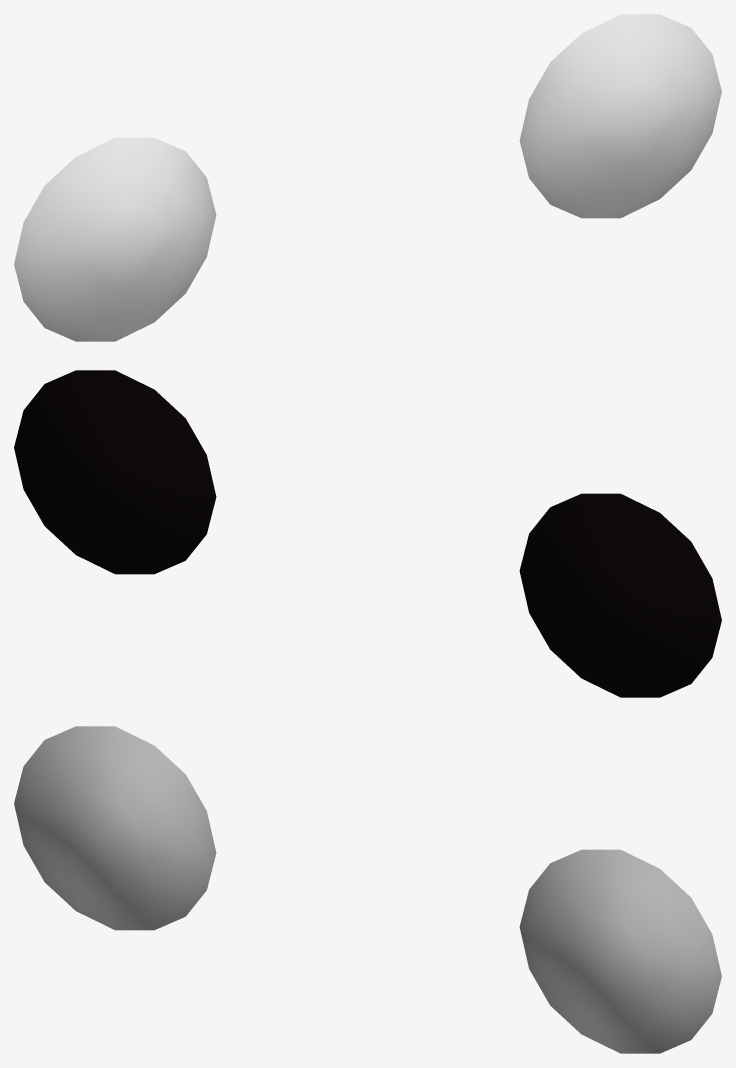
Rendered from mod_skull_d_return.fbx.
3 views of the same model, one above another, from view 1: azimuth 30°, elevation 25°; view 2: azimuth 150°, elevation 25°; view 3: azimuth 330°, elevation 25° (orthographic).
Visible parts, largest first — view 1: pPlane1; view 2: pPlane1; view 3: pPlane1.
Boxes of the visible parts, x1,y1,x2,y2 form: pPlane1: (14,14,721,341); pPlane1: (14,370,721,697); pPlane1: (14,726,721,1053).
Size of the model in its own units: 1.12 by 0.3089 by 0.0835.
